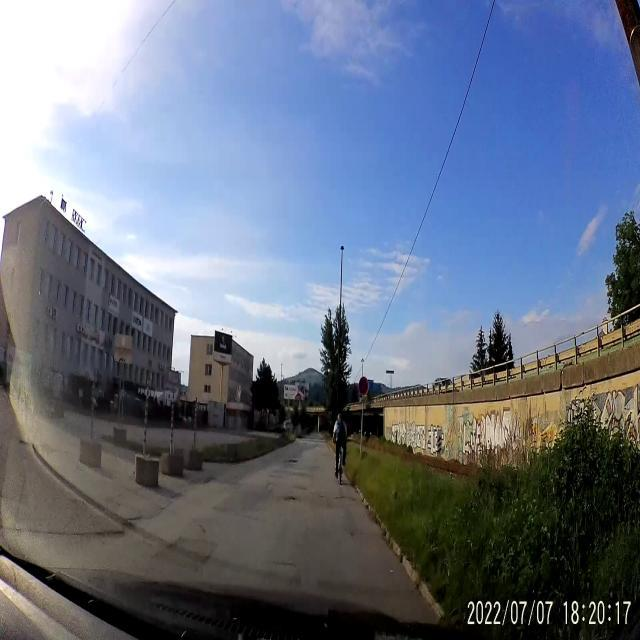Pothole: (108, 507, 144, 540), (189, 507, 214, 548), (277, 492, 301, 512), (188, 474, 223, 486), (270, 559, 298, 570), (280, 456, 305, 466), (330, 492, 352, 502), (318, 491, 328, 499)
